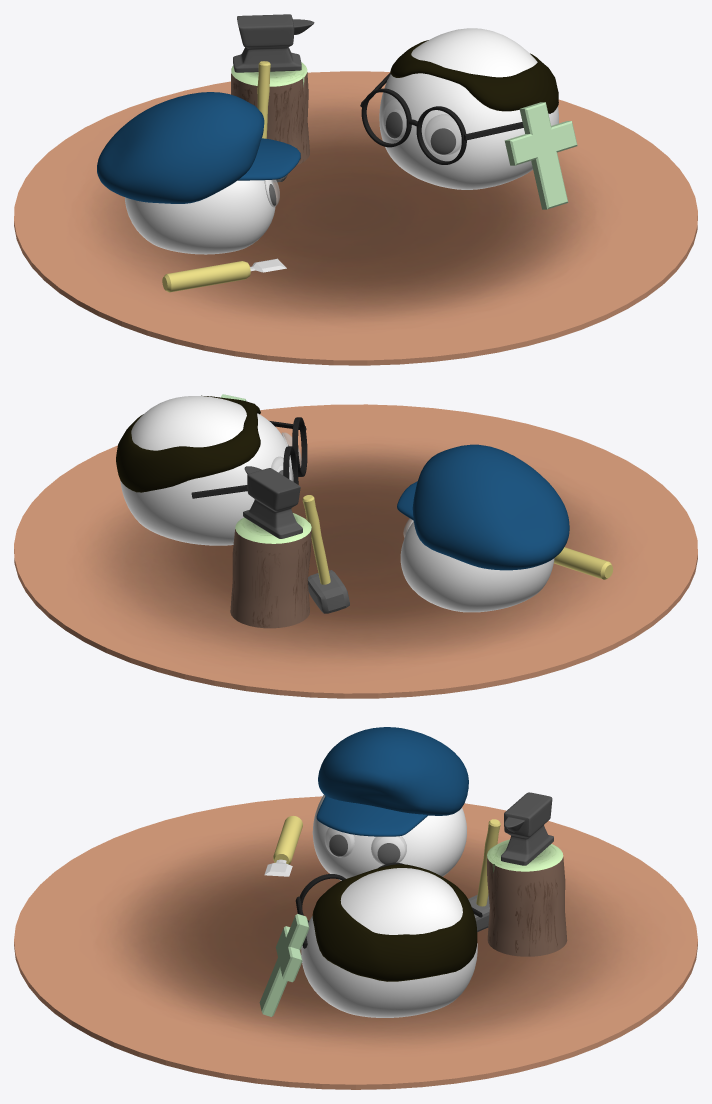
Rendered from pedrinhas.glb.
3 renders of one model, top to bottom at view 1: azimuth 30°, elevation 25°; view 2: azimuth 150°, elevation 25°; view 3: azimuth 270°, elevation 25°, orthographic.
Parts seen in each view (by area): view 1: Circle, Boina1, Cabelo, Cruz, tronco, bigorna, Cylinder, Cube.004; view 2: Circle, Boina1, Cabelo, tronco, bigorna, Cube.004, Cylinder; view 3: Circle, Cabelo, Boina1, tronco, bigorna, Cruz, Cube.004, Cylinder.
Boxes of the visible parts, x1=… form: Circle: x1=14, y1=71, x2=697, y2=365; Boina1: x1=97, y1=92, x2=300, y2=254; Cabelo: x1=360, y1=28, x2=558, y2=189; Cruz: x1=504, y1=102, x2=577, y2=209; tronco: x1=231, y1=62, x2=309, y2=165; bigorna: x1=233, y1=14, x2=314, y2=72; Cylinder: x1=162, y1=261, x2=250, y2=292; Cube.004: x1=257, y1=61, x2=287, y2=182; Circle: x1=14, y1=404, x2=697, y2=698; Boina1: x1=397, y1=444, x2=569, y2=612; Cabelo: x1=116, y1=395, x2=307, y2=545; tronco: x1=230, y1=513, x2=311, y2=628; bigorna: x1=243, y1=466, x2=302, y2=538; Cube.004: x1=302, y1=495, x2=349, y2=613; Cylinder: x1=554, y1=547, x2=613, y2=579; Circle: x1=14, y1=796, x2=697, y2=1089; Cabelo: x1=295, y1=862, x2=482, y2=1017; Boina1: x1=312, y1=727, x2=468, y2=880; tronco: x1=487, y1=839, x2=567, y2=956; bigorna: x1=501, y1=792, x2=553, y2=865; Cruz: x1=259, y1=914, x2=309, y2=1016; Cube.004: x1=468, y1=819, x2=500, y2=932; Cylinder: x1=273, y1=816, x2=302, y2=864.
Size of the model in its own units: 7.25 by 1.69 by 7.25.
14 materials, 2 textured.
